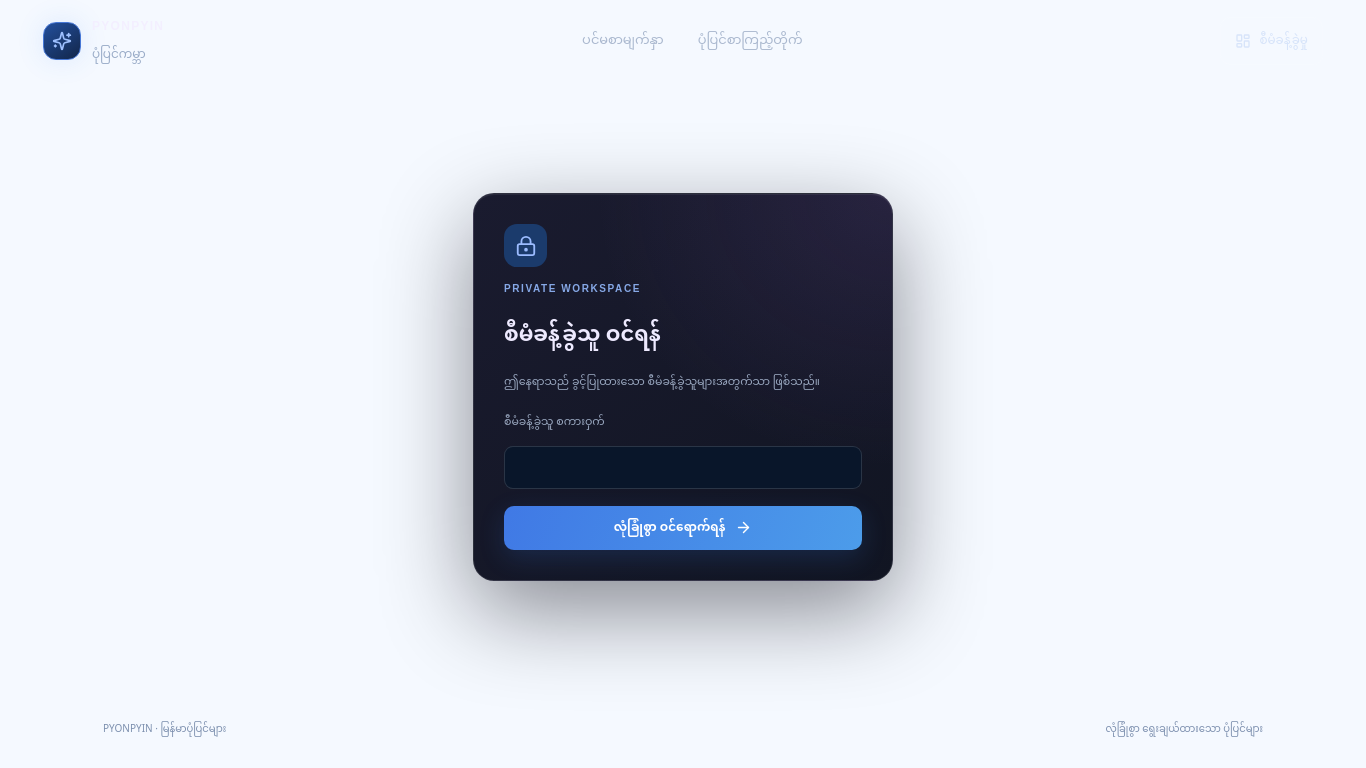
it: PyonPyin frontend › loads episode records from the authenticated API outside demo mode
The width and height of the screenshot is (1366, 768).
In the password field labelled "စီမံခန့်ခွဲသူ စကားဝှက်": {"x": 683, "y": 467} [504,446,862,489], type "not-a-real-password"
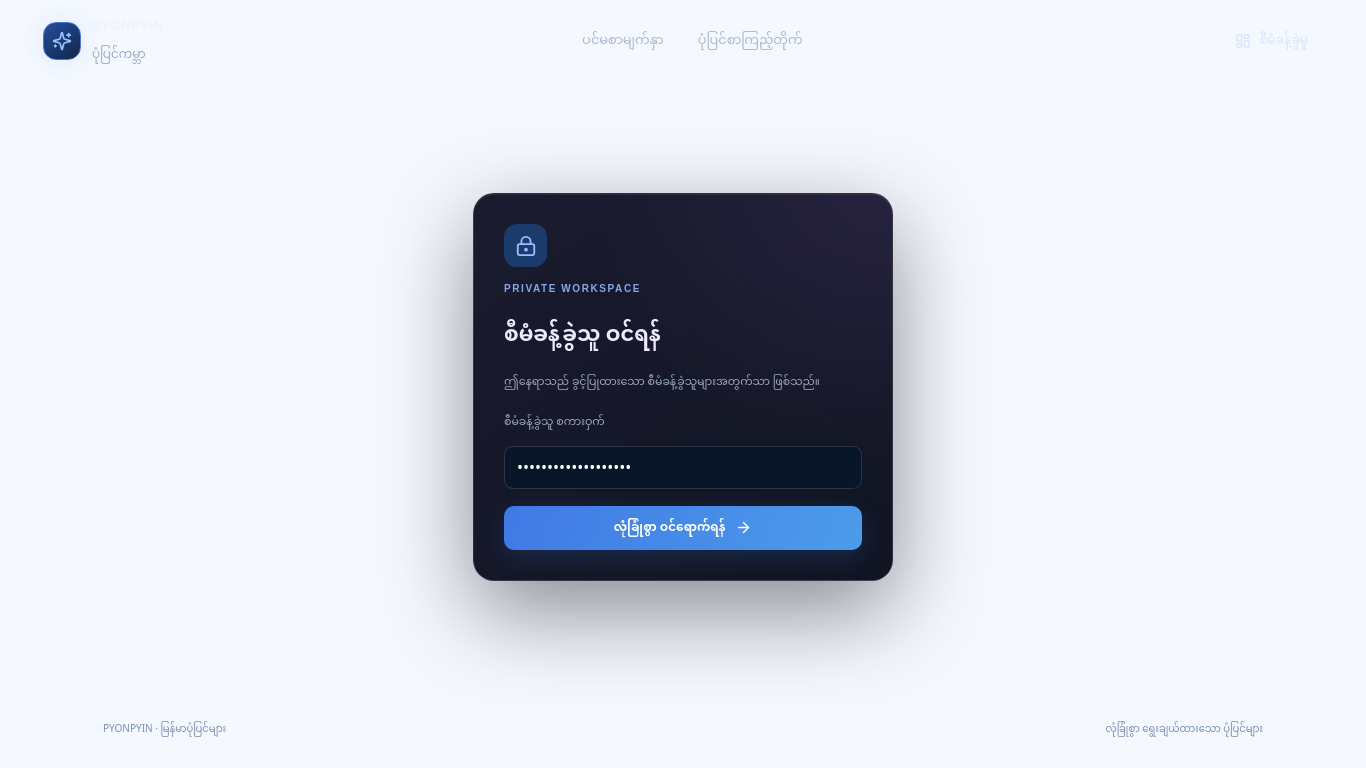
Click the button "လုံခြုံစွာ ဝင်ရောက်ရန်": {"x": 683, "y": 528} [504,506,862,550]
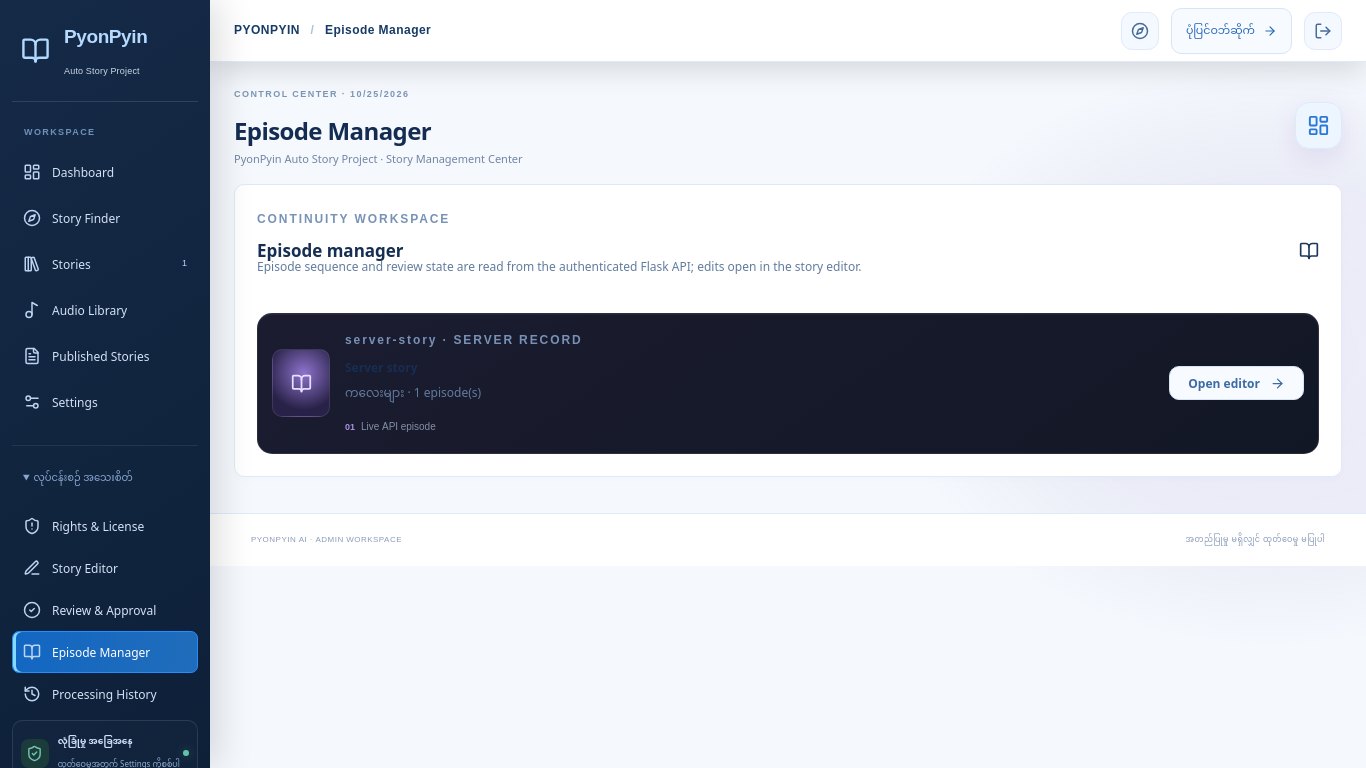
expect the text "Live API episode" is shown: met, box [361,417,436,439]
expect the text "server-story · SERVER RECORD" is shown: met, box [345,328,583,354]
